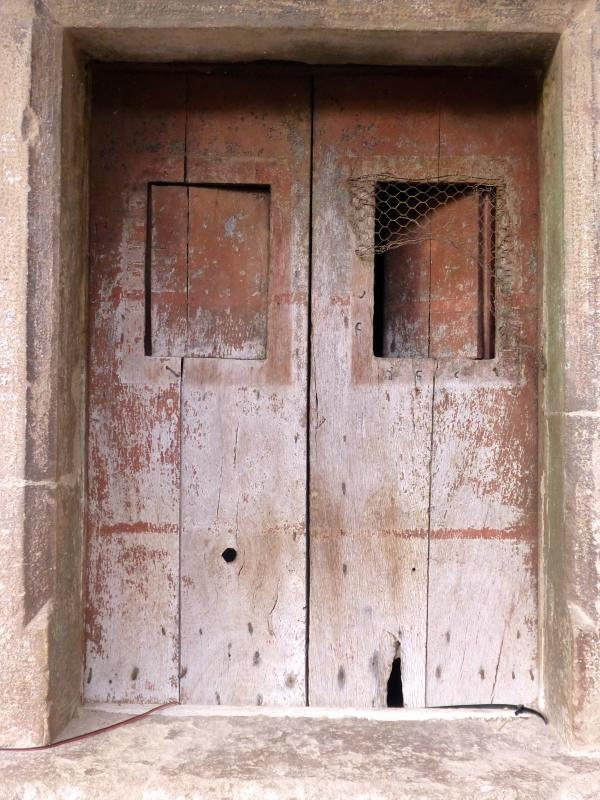door: (83, 60, 545, 714)
